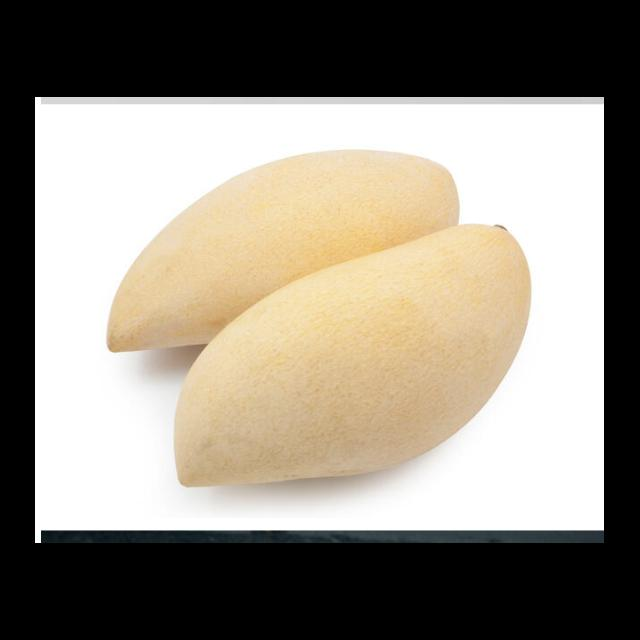mango: (171, 221, 535, 488), (107, 145, 464, 357)
